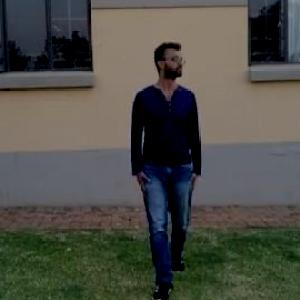follow: (124, 30, 212, 299)
